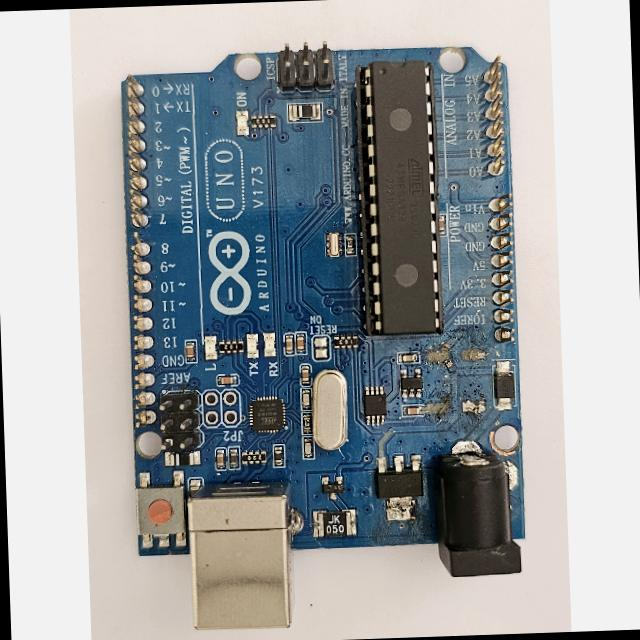missing_analog_pins: (471, 62, 521, 354)
missing_capacitors: (418, 342, 491, 428)
missing_digital_pins: (117, 75, 157, 427)
